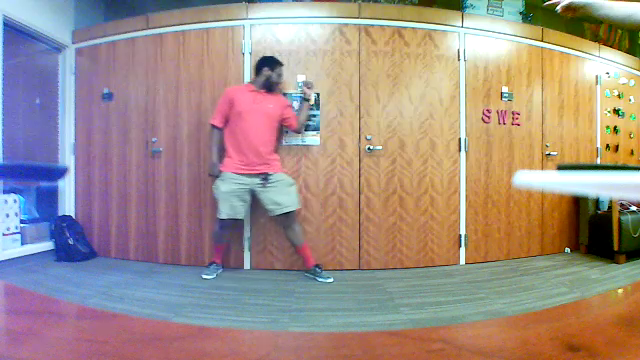up: (297, 65, 321, 100)
